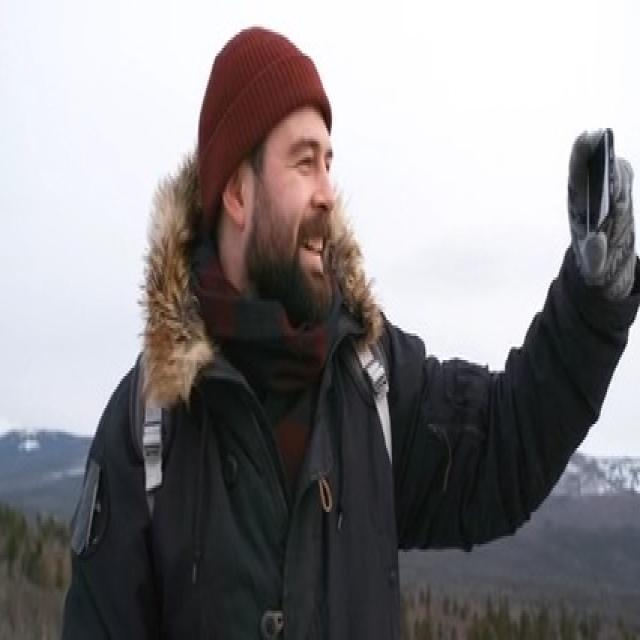Jacket_Wearer: (56, 227, 640, 640)
Person: (39, 16, 640, 637)
